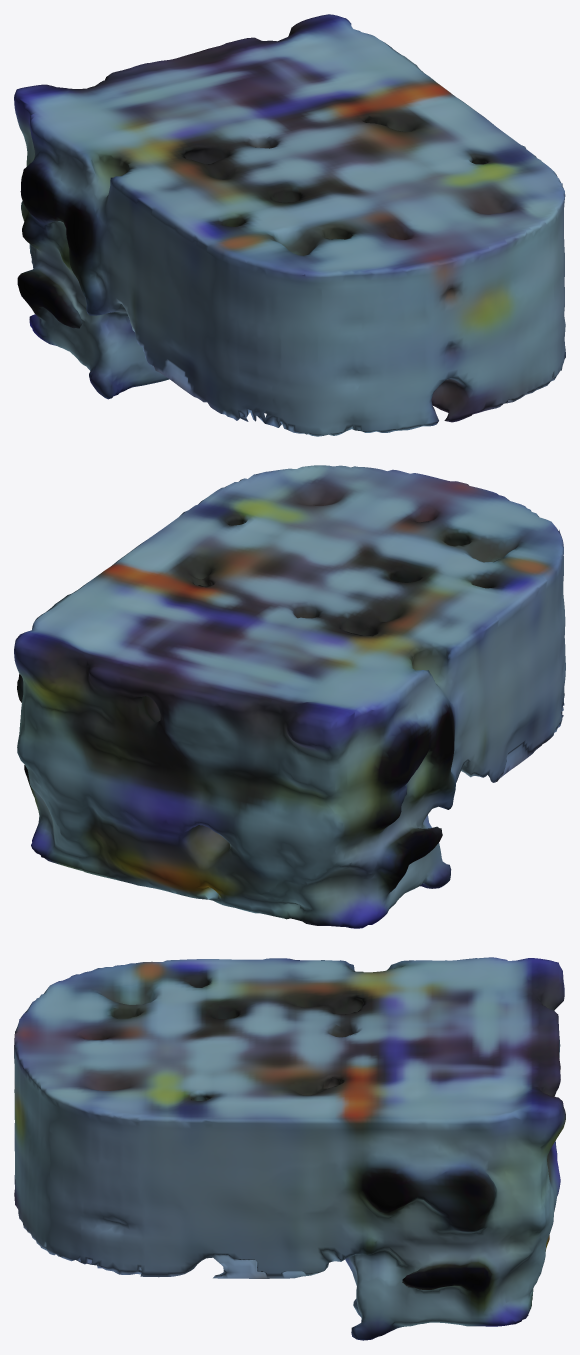
File: backpack.glb
3 renders of one model, top to bottom at view 1: azimuth 30°, elevation 25°; view 2: azimuth 150°, elevation 25°; view 3: azimuth 270°, elevation 25°, orthographic. The views are drawn at different scales.
Bounding box in the file's own units: 0.7775 × 0.4685 × 0.9996.
